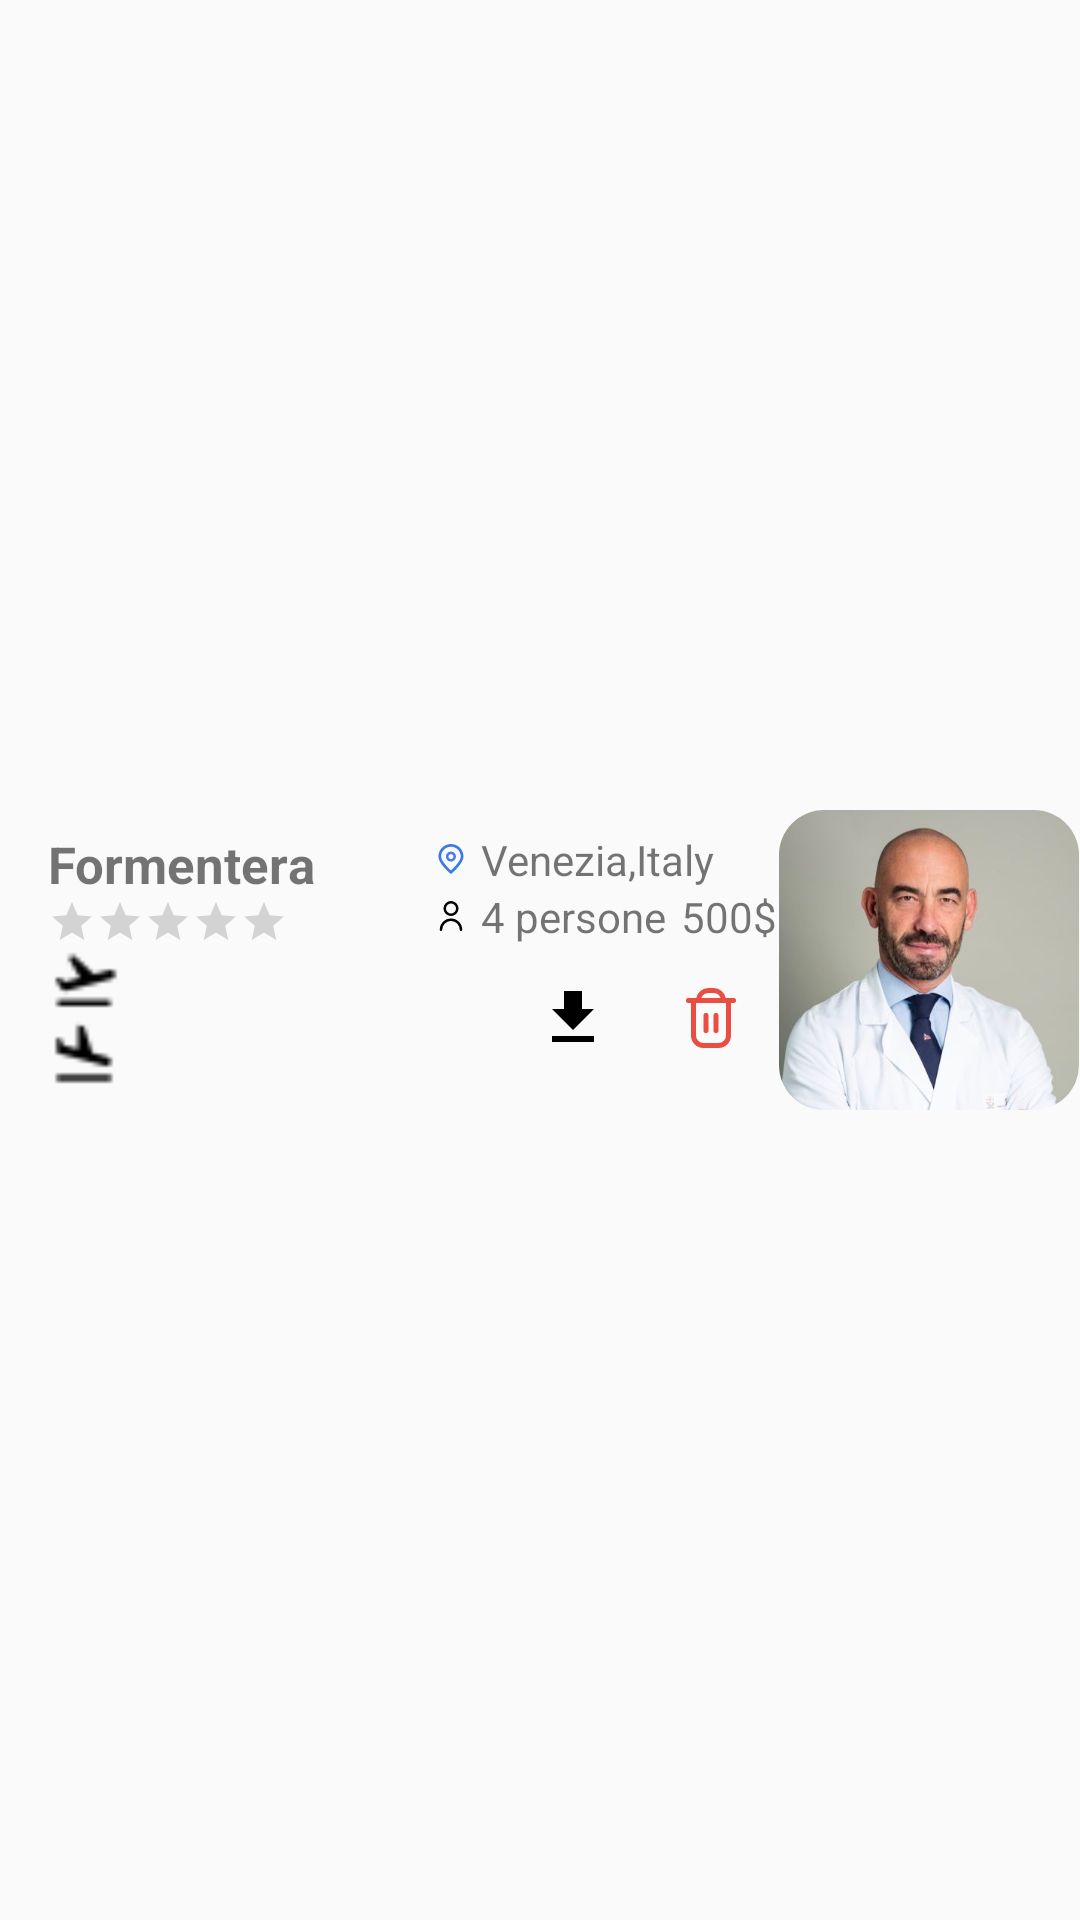

Point at icon controls on the screen. Image size 1080px×1920px, points as (x=x, y=y).
download: (x=573, y=1016)
trash: (x=711, y=1018)
